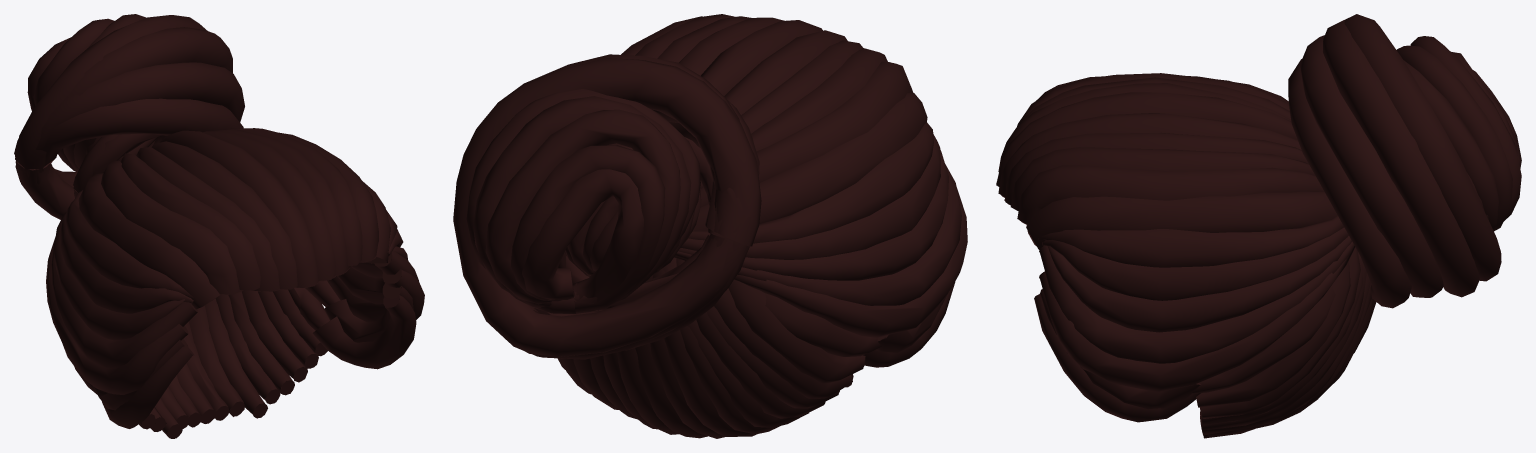
The model's file is hair-7-570581f5.glb.
3 renders of one model, left to right at view 1: azimuth 30°, elevation 25°; view 2: azimuth 150°, elevation 25°; view 3: azimuth 270°, elevation 25°, orthographic. The views are drawn at different scales.
Parts seen in each view (by area): view 1: hair_7.001; view 2: hair_7.001; view 3: hair_7.001.
Part boxes in pixels (x1,y1,x2,y2): hair_7.001: (14, 14, 424, 438); hair_7.001: (453, 14, 967, 438); hair_7.001: (996, 14, 1521, 438).
Bounding box in the file's own units: 1.8 × 2 × 2.46.
